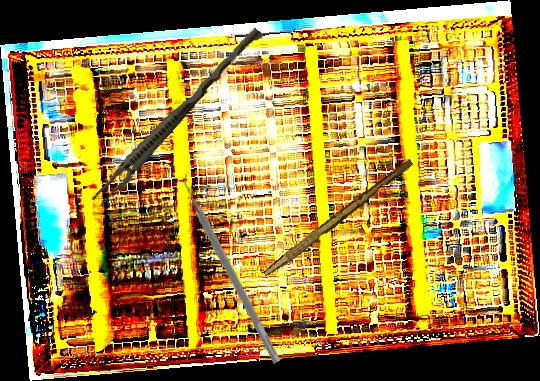Scalpel Handle: (262, 155, 415, 282)
Spatula Surgical: (175, 170, 290, 365)
Tissue Forceps: (89, 20, 265, 212)
